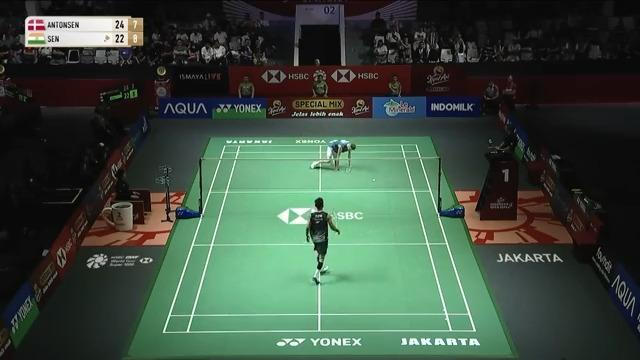Shuttlecock: (371, 174, 382, 182)
